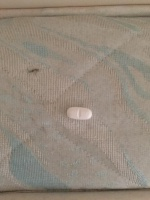Centik Buskopan: (66, 106, 93, 121)
